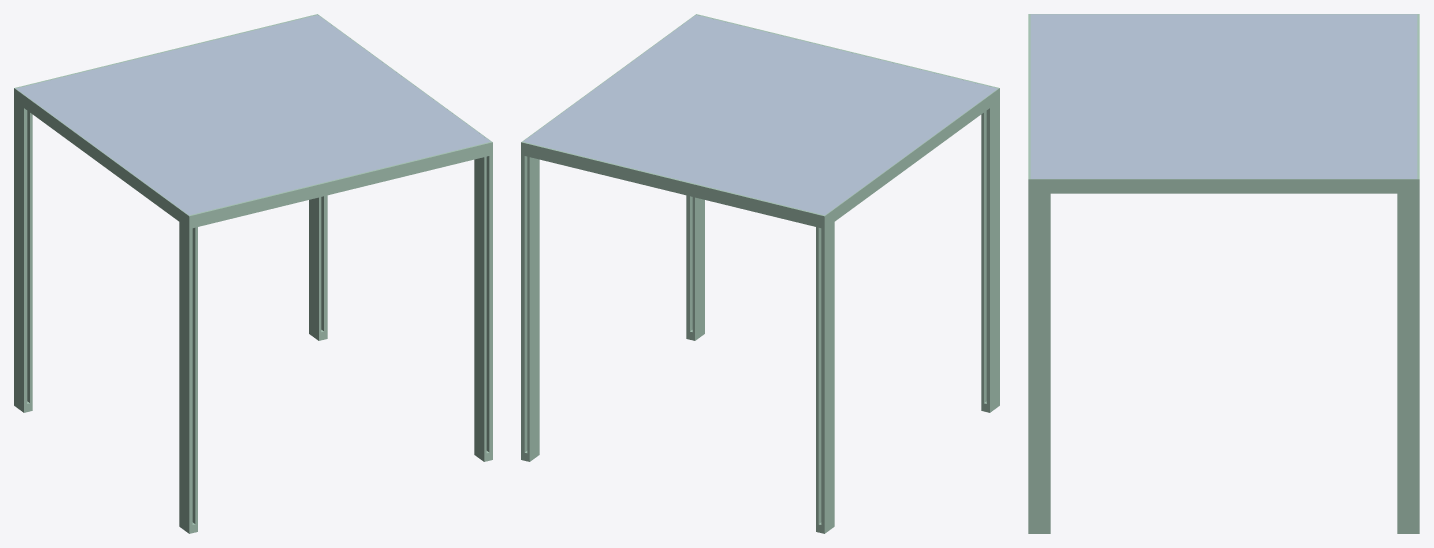
Rendered from sh-scopia-desk-table.glb.
3 views of the same model, side by side, from view 1: azimuth 30°, elevation 25°; view 2: azimuth 150°, elevation 25°; view 3: azimuth 270°, elevation 25° (orthographic). The views are drawn at different scales.
Parts seen in each view (by area): view 1: mesa_oficina_Cube.144, soporte_mesa_Cube.155; view 2: mesa_oficina_Cube.144, soporte_mesa_Cube.155; view 3: mesa_oficina_Cube.144, soporte_mesa_Cube.155.
Boxes of the visible parts, x1,y1,x2,y2 form: mesa_oficina_Cube.144: [16, 15, 490, 215]; soporte_mesa_Cube.155: [14, 14, 492, 533]; mesa_oficina_Cube.144: [523, 15, 997, 215]; soporte_mesa_Cube.155: [521, 14, 999, 533]; mesa_oficina_Cube.144: [1030, 14, 1417, 178]; soporte_mesa_Cube.155: [1028, 14, 1419, 533].
Bounding box in the file's own units: 1 × 1 × 1.
